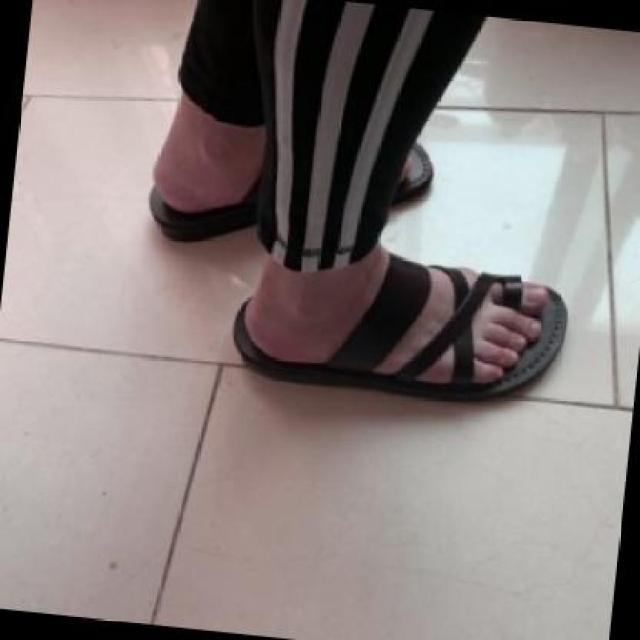Sandals: (224, 246, 578, 401)
